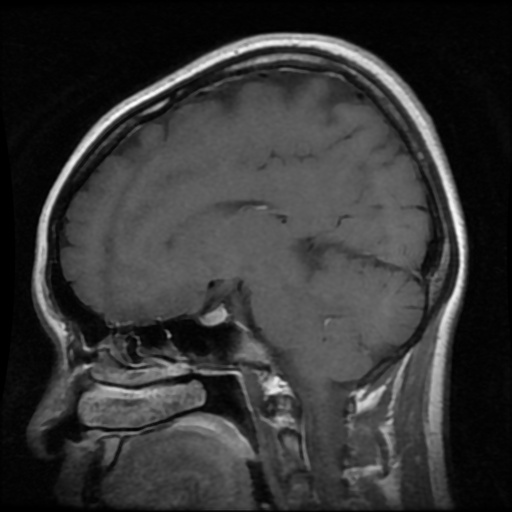pituitary: (200, 307, 228, 324)
